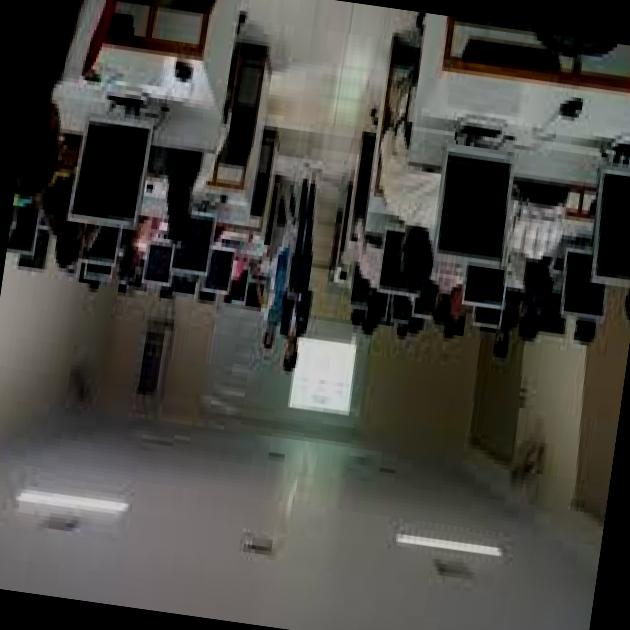desk: (414, 13, 630, 167), (98, 0, 251, 148)
